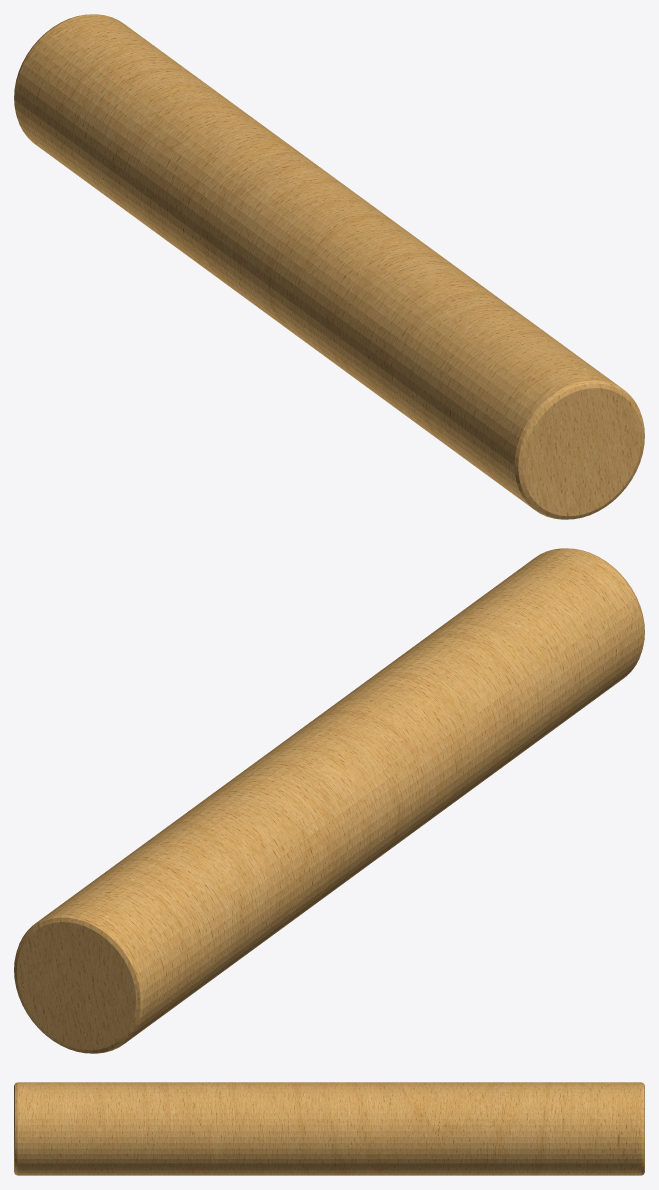
3 renders of one model, top to bottom at view 1: azimuth 30°, elevation 25°; view 2: azimuth 150°, elevation 25°; view 3: azimuth 270°, elevation 25°, orthographic. The views are drawn at different scales.
Visible parts, largest first — view 1: bolt_large_starting_point; view 2: bolt_large_starting_point; view 3: bolt_large_starting_point.
Part boxes in pixels (<box>): bolt_large_starting_point: <box>14,14,644,519</box>; bolt_large_starting_point: <box>14,548,644,1053</box>; bolt_large_starting_point: <box>14,1082,644,1175</box>.
Bounding box in the file's own units: 0.02 × 0.02 × 0.135.
1 material, 1 textured.
